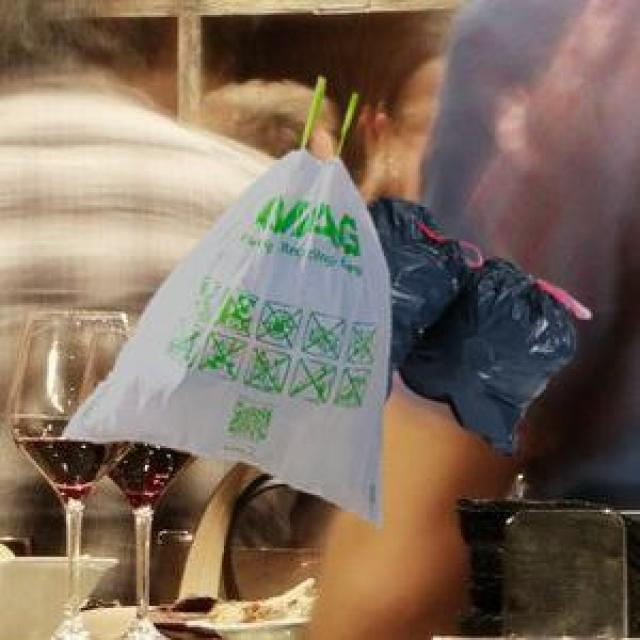miscellaneous trash: (363, 194, 587, 452)
